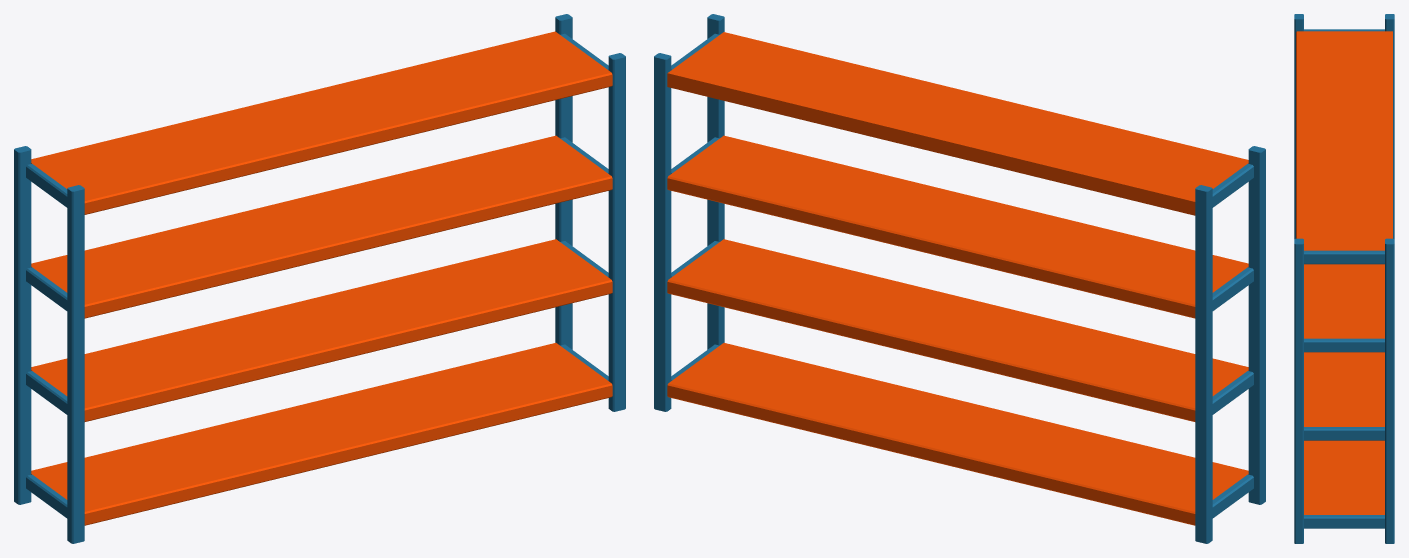
The model's file is Stock_Delivery_Shelf.glb.
3 views of the same model, side by side, from view 1: azimuth 30°, elevation 25°; view 2: azimuth 150°, elevation 25°; view 3: azimuth 270°, elevation 25° (orthographic). The views are drawn at different scales.
Parts seen in each view (by area): view 1: stock_shelf-col; view 2: stock_shelf-col; view 3: stock_shelf-col.
Part boxes in pixels (x1=…): stock_shelf-col: x1=14, y1=14, x2=625, y2=543; stock_shelf-col: x1=654, y1=14, x2=1265, y2=543; stock_shelf-col: x1=1294, y1=14, x2=1394, y2=543.
Size of the model in its own units: 4.2 by 2.55 by 0.775.
Materials: 1 (1 with a texture image).
